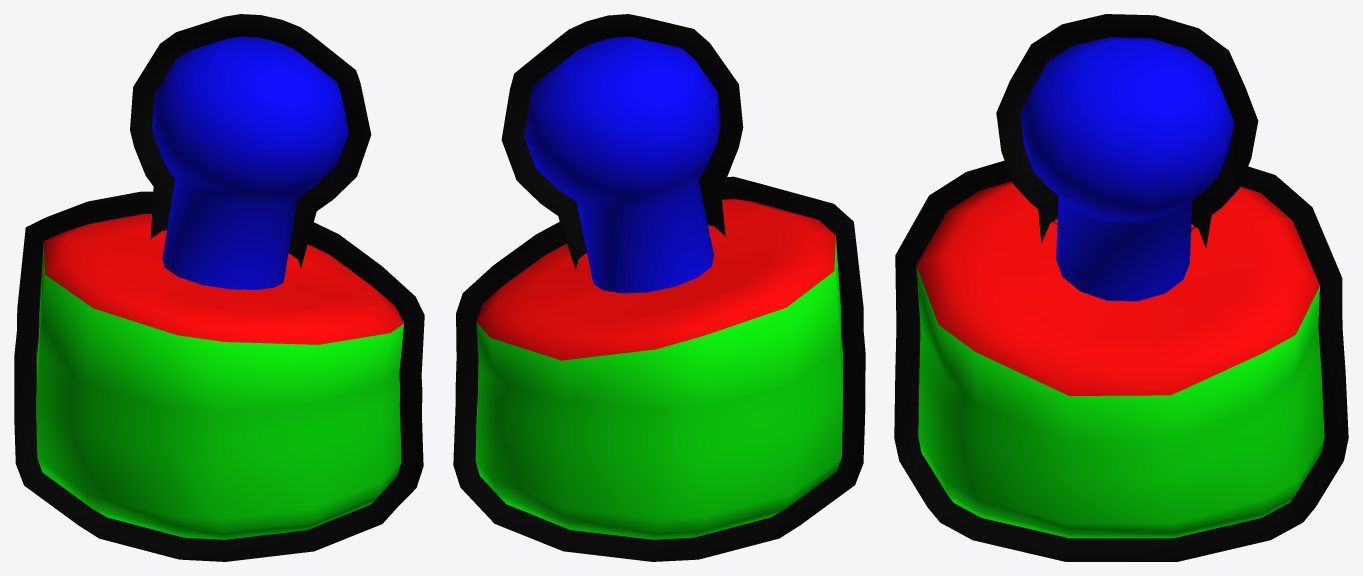
The model's file is leg1.fbx.
3 renders of one model, left to right at view 1: azimuth 30°, elevation 25°; view 2: azimuth 150°, elevation 25°; view 3: azimuth 270°, elevation 25°, orthographic. The views are drawn at different scales.
Visible parts, largest first — view 1: Cube.004; view 2: Cube.004; view 3: Cube.004.
Boxes of the visible parts, x1,y1,x2,y2 form: Cube.004: (14,14,424,561); Cube.004: (453,14,865,561); Cube.004: (894,14,1348,561).
Size of the model in its own units: 89.76 by 113 by 94.34.
